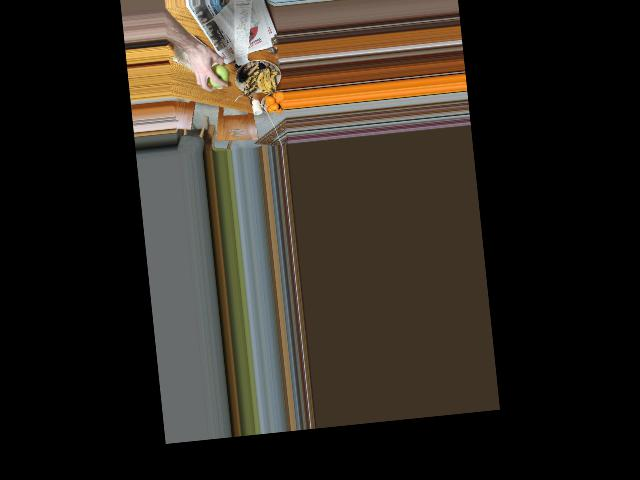apple: (206, 62, 230, 89)
